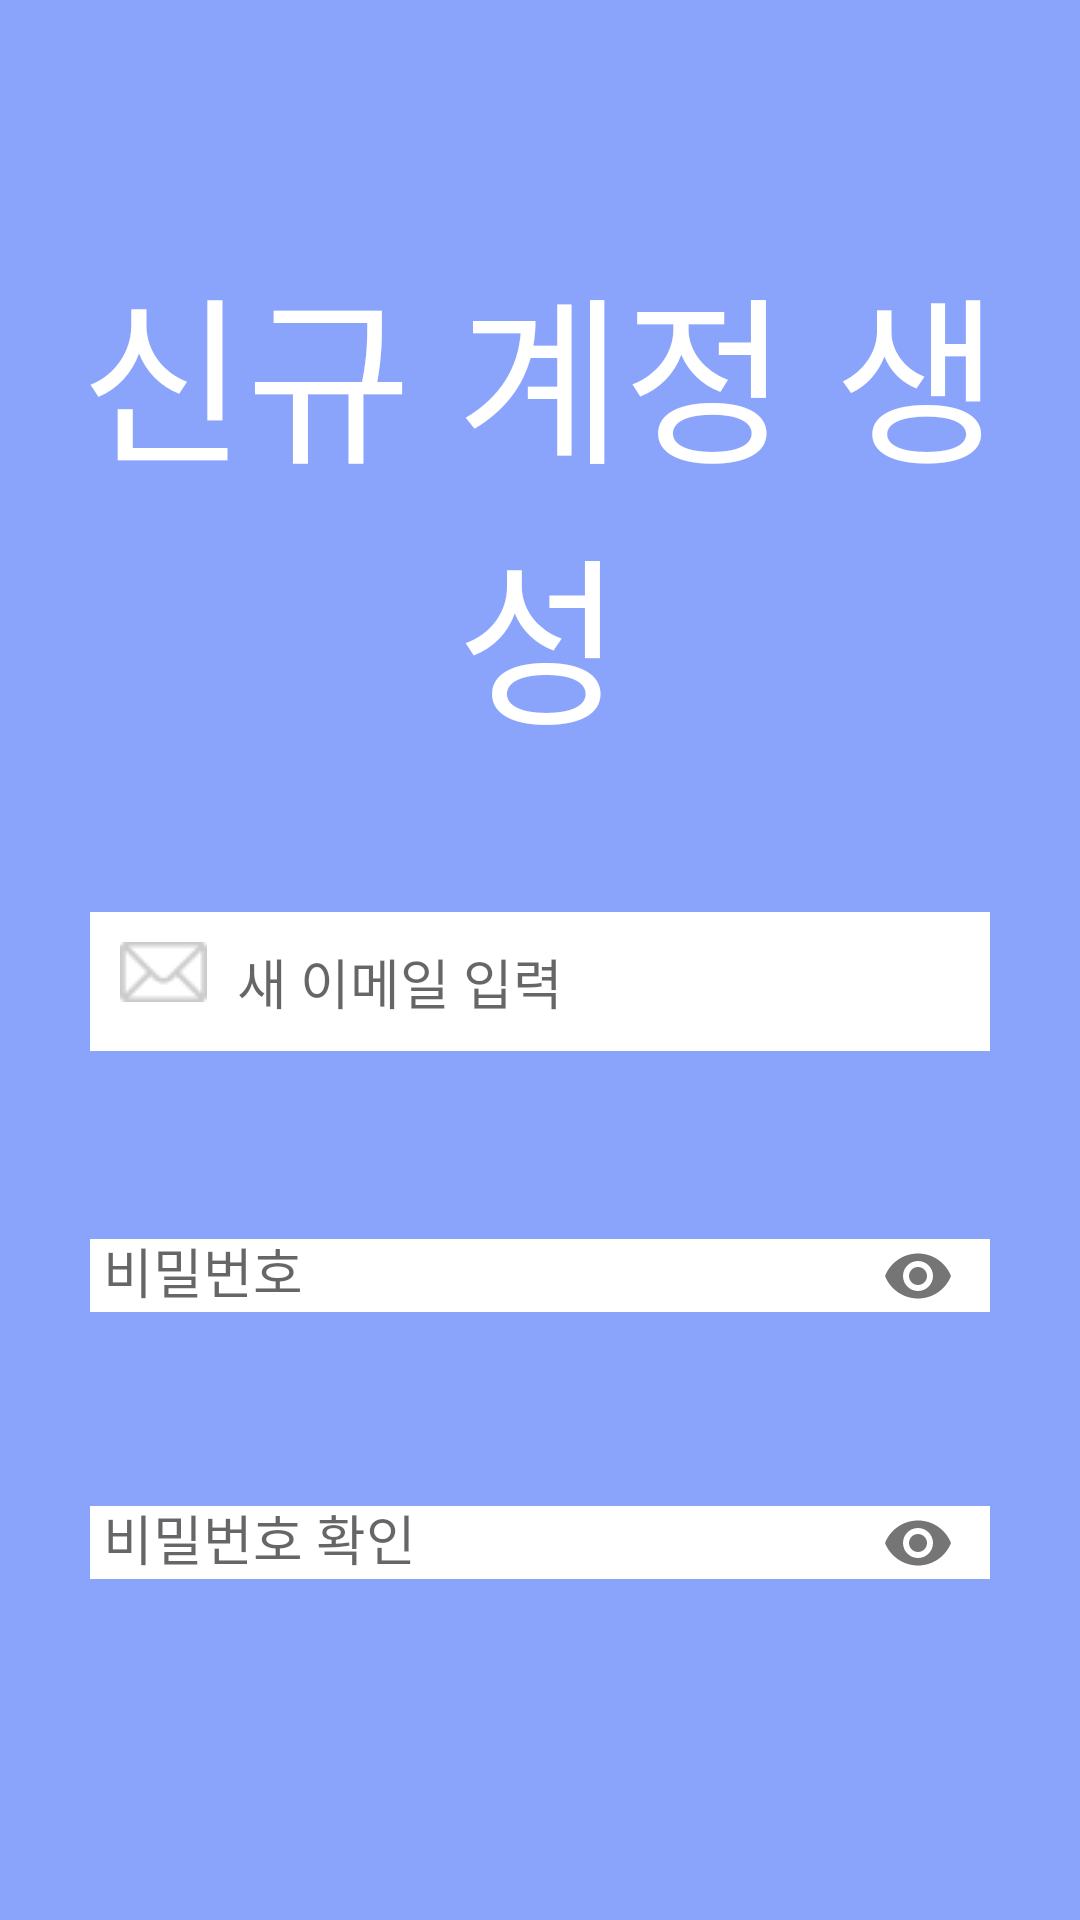

Screen size 1080w x 1920h. Icon name, then its center in pixels as [x,y]:
mail: [163,972]
